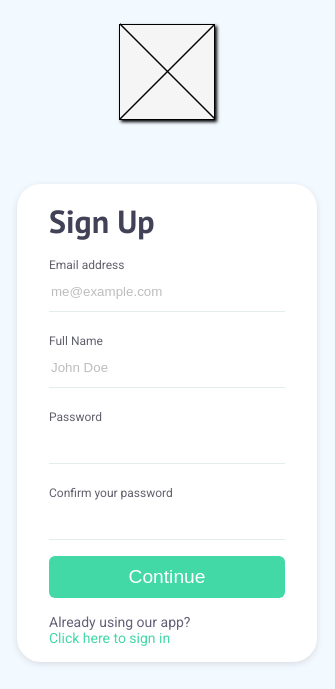
Test: Test Sign Up page › Given user is on sign up page › When user interacts with email input field › And users enters invalid email address › Users sees 'Invalid Email address' message
Type "test@.example.com" into the field labelled "Email address". click: (167, 292)
box: left=49, top=272, right=285, bottom=312
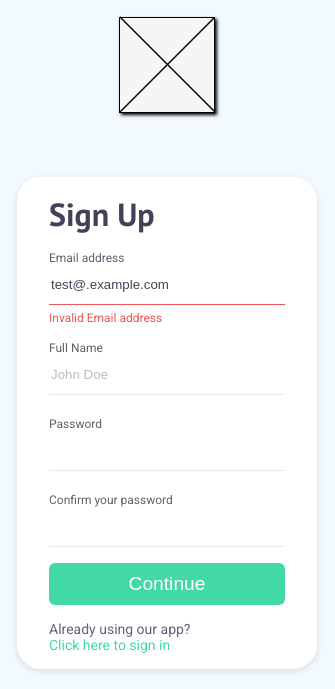
Expected: the text "Invalid Email address" is shown, left=49, top=311, right=162, bottom=325
